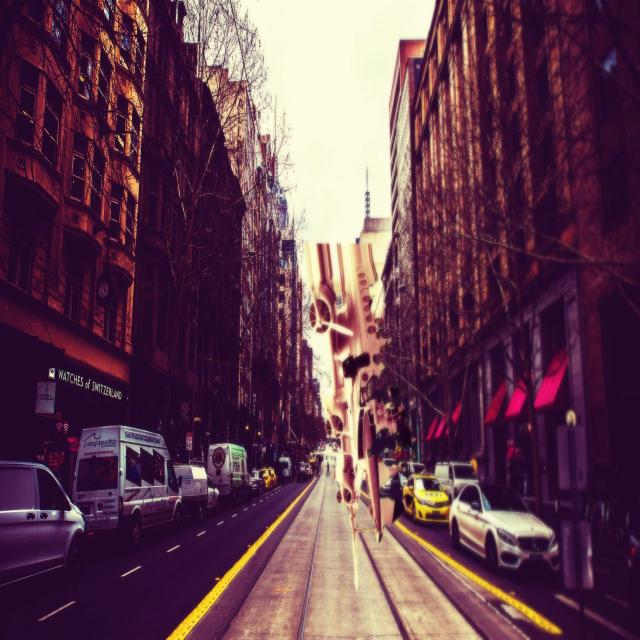airplane: (304, 240, 414, 590)
